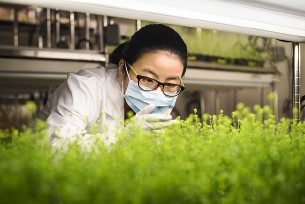Mask: (126, 67, 183, 123)
